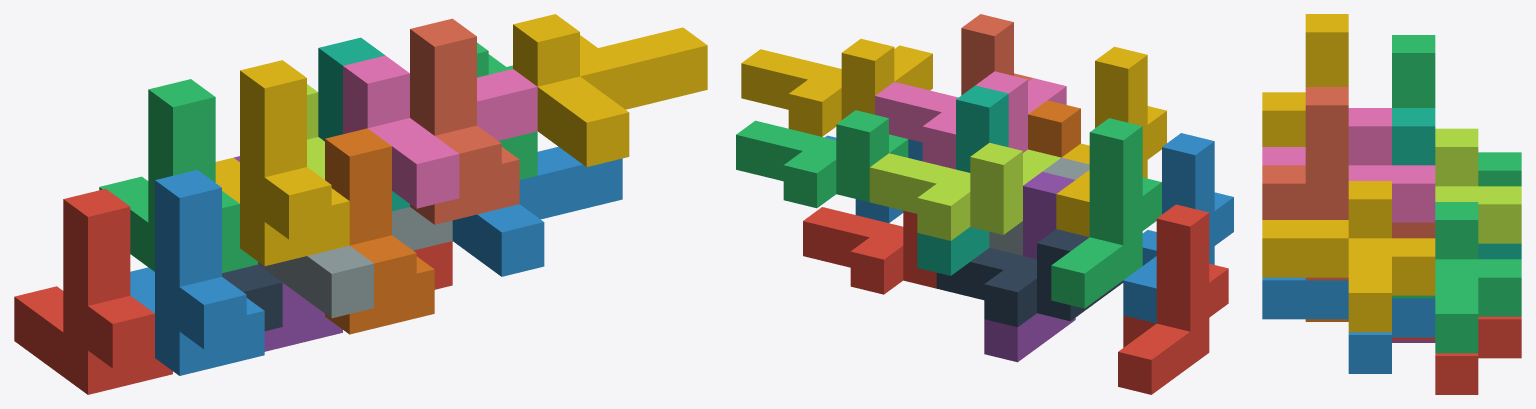
Rendered from tiling.obj.
3 renders of one model, left to right at view 1: azimuth 30°, elevation 25°; view 2: azimuth 150°, elevation 25°; view 3: azimuth 270°, elevation 25°, orthographic. The views are drawn at different scales.
Visible parts, largest first — view 1: copy_1_domain_1, copy_2_domain_8, copy_1_domain_2, copy_1_domain_4, copy_2_domain_4, copy_1_domain_8, copy_1_domain_6, copy_1_domain_3, copy_2_domain_6, copy_2_domain_2, copy_1_domain_7, copy_1_domain_5 (+4 smaller); view 2: copy_1_domain_1, copy_1_domain_3, copy_2_domain_3, copy_2_domain_8, copy_2_domain_7, copy_2_domain_4, copy_2_domain_1, copy_2_domain_5, copy_1_domain_2, copy_1_domain_4, copy_1_domain_7, copy_1_domain_5 (+4 smaller); view 3: copy_2_domain_8, copy_2_domain_7, copy_1_domain_8, copy_2_domain_6, copy_2_domain_4, copy_2_domain_3, copy_1_domain_4, copy_1_domain_3, copy_2_domain_5, copy_1_domain_7.
Part boxes in pixels (<box>): copy_1_domain_1: <box>14,189,172,394</box>; copy_2_domain_8: <box>513,14,707,166</box>; copy_1_domain_2: <box>130,170,264,375</box>; copy_1_domain_4: <box>215,60,349,266</box>; copy_2_domain_4: <box>343,55,537,208</box>; copy_1_domain_8: <box>410,18,519,224</box>; copy_1_domain_6: <box>325,128,434,334</box>; copy_1_domain_3: <box>99,79,257,273</box>; copy_2_domain_6: <box>452,146,622,276</box>; copy_2_domain_2: <box>258,207,452,318</box>; copy_1_domain_7: <box>318,37,409,211</box>; copy_1_domain_5: <box>234,156,342,351</box>; copy_1_domain_1: <box>1118,204,1228,394</box>; copy_1_domain_3: <box>1051,118,1161,308</box>; copy_2_domain_3: <box>869,142,1060,240</box>; copy_2_domain_8: <box>741,38,932,136</box>; copy_2_domain_7: <box>736,110,908,208</box>; copy_2_domain_4: <box>875,71,1066,169</box>; copy_2_domain_1: <box>936,229,1123,327</box>; copy_2_domain_5: <box>803,207,936,294</box>; copy_1_domain_2: <box>1123,133,1233,323</box>; copy_1_domain_4: <box>1056,46,1166,236</box>; copy_1_domain_7: <box>917,85,1008,275</box>; copy_1_domain_5: <box>984,171,1075,362</box>; copy_2_domain_8: <box>1262,181,1435,332</box>; copy_2_domain_7: <box>1392,202,1521,353</box>; copy_1_domain_8: <box>1262,87,1435,280</box>; copy_2_domain_6: <box>1262,277,1435,373</box>; copy_2_domain_4: <box>1262,108,1435,222</box>; copy_2_domain_3: <box>1435,128,1521,243</box>; copy_1_domain_4: <box>1262,14,1348,146</box>; copy_1_domain_3: <box>1392,35,1521,186</box>; copy_2_domain_5: <box>1392,316,1521,394</box>; copy_1_domain_7: <box>1392,108,1521,259</box>.
Bounding box in the file's own units: 14 × 7 × 6.
